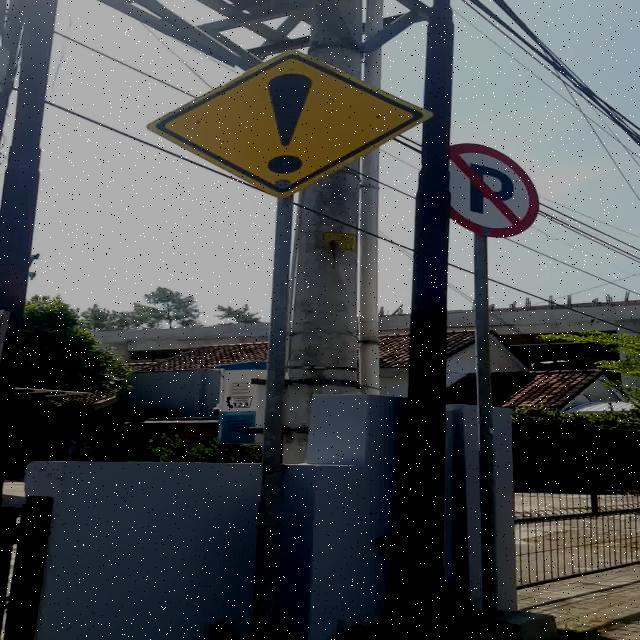Hati-Hati: (146, 49, 434, 198)
